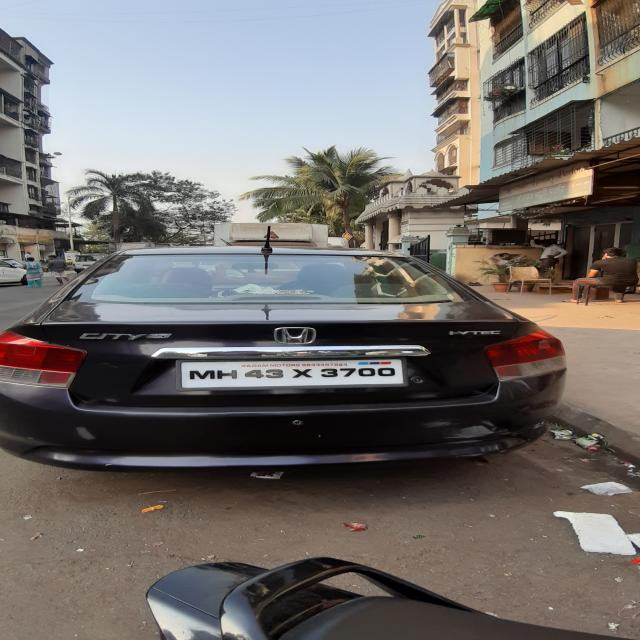Number-Plate: (182, 361, 402, 383)
